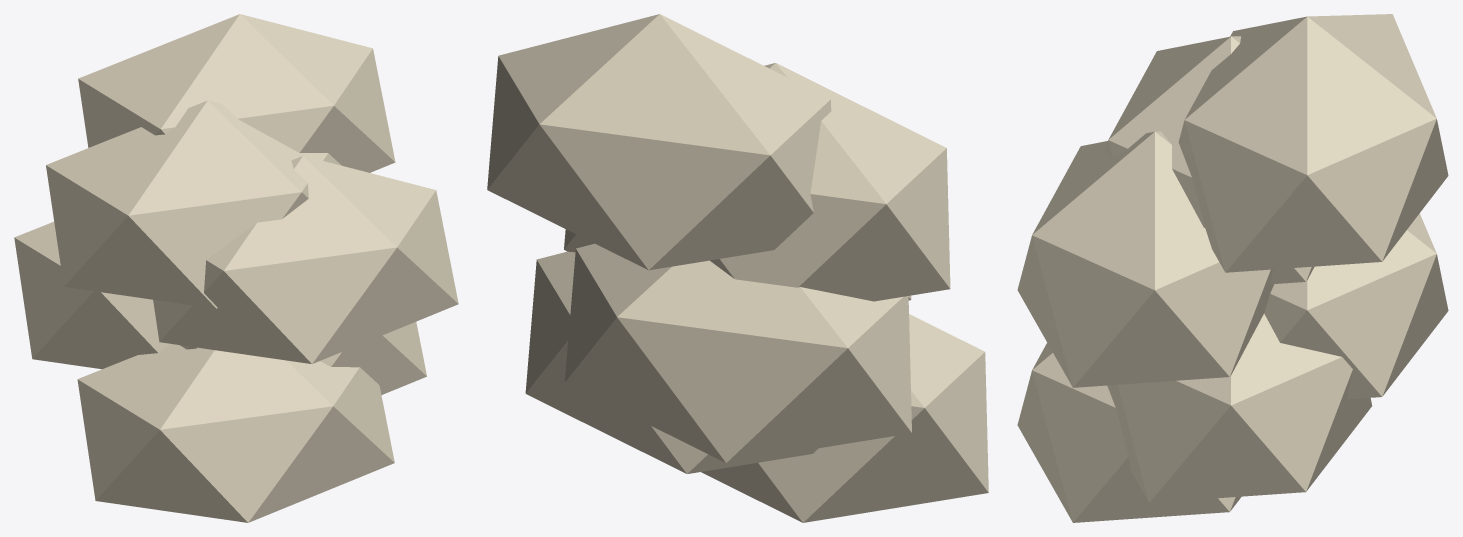
Rendered from item_071_wool_l.glb.
3 views of the same model, side by side, from view 1: azimuth 30°, elevation 25°; view 2: azimuth 150°, elevation 25°; view 3: azimuth 270°, elevation 25° (orthographic). The views are drawn at different scales.
Parts seen in each view (by area): view 1: item_071_wool_l; view 2: item_071_wool_l; view 3: item_071_wool_l.
Part boxes in pixels (x1,y1,x2,y2): item_071_wool_l: [14, 14, 458, 522]; item_071_wool_l: [487, 14, 988, 522]; item_071_wool_l: [1017, 14, 1448, 522].
Bounding box in the file's own units: 0.3735 × 0.4525 × 0.3394.
